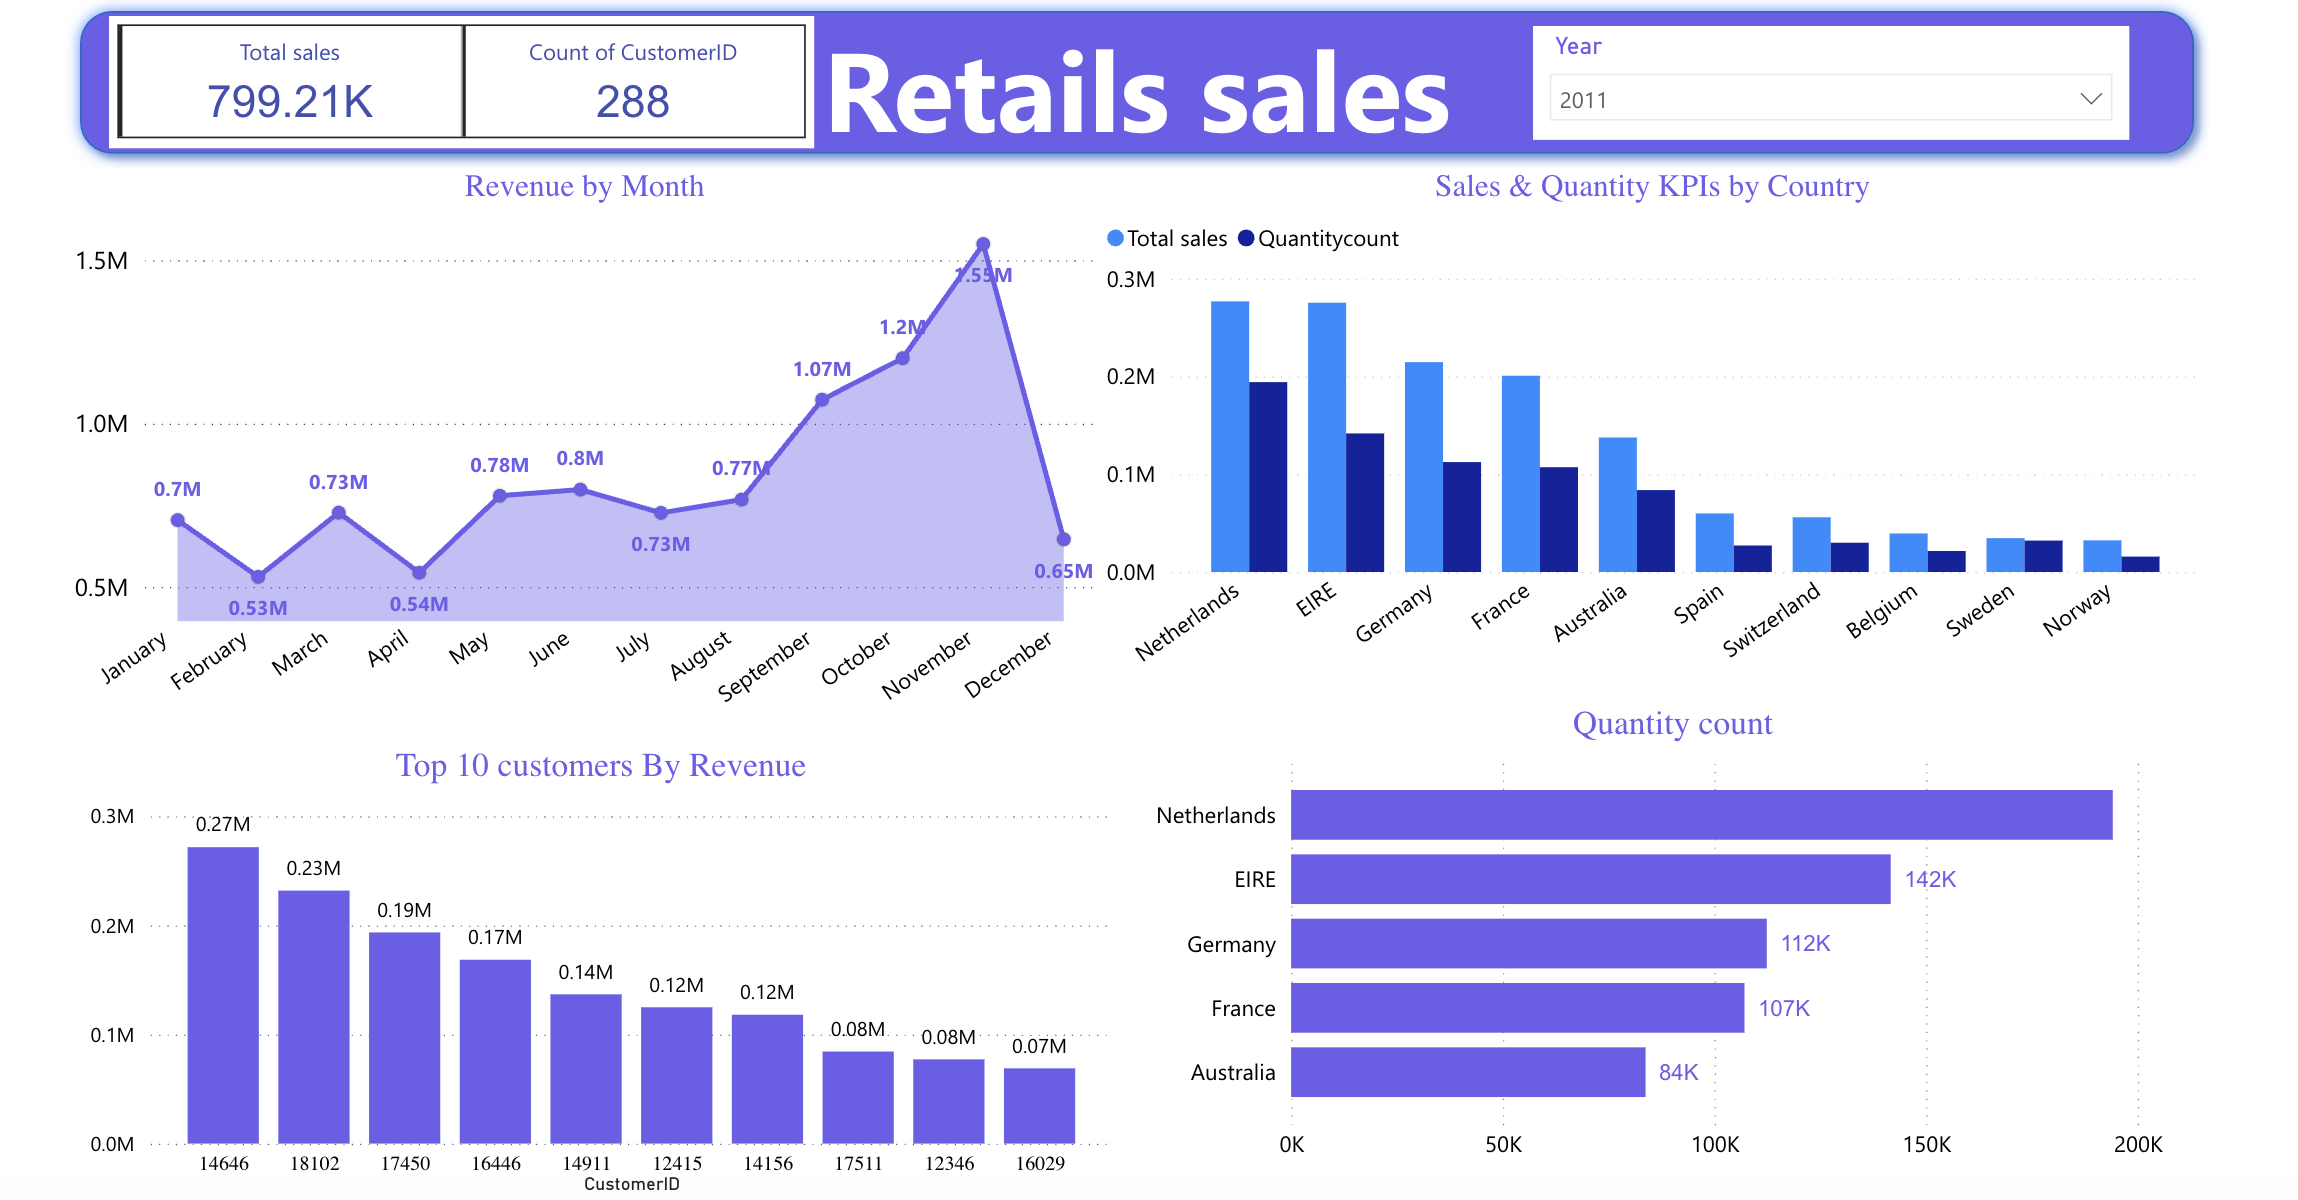

This screenshot's page, from the dashboard's own definition file:
{"tool":"powerbi","page":{"name":"Page 1","canvas":[1280,720],"ordinal":0},"visuals":[{"type":"shape","box":[0,0,1280,103.1],"z":0},{"type":"lineChart","title":"Revenue by Month","fields":{"Category":["Online Retail.InvoiceDate.Variation.Date Hierarchy.Month"],"Y":["Online Retail.Total sales"]},"box":[0,103.1,620.5,334.6],"z":1000},{"type":"lineClusteredColumnComboChart","title":"Sales & Quantity KPIs by Country","fields":{"Category":["Online Retail.Country"],"Y":["Online Retail.Total sales","Online Retail.Quantitycount"]},"box":[616.7,103.1,663.3,319],"z":2000},{"type":"columnChart","title":"Top 10 customers By Revenue","fields":{"Category":["Online Retail.CustomerID"],"Y":["Online Retail.Total sales"]},"box":[9,448,621,272],"z":3000},{"type":"cardVisual","fields":{"Data":["Online Retail.Total sales","Count(Online Retail.CustomerID)"]},"box":[26.3,11.7,421.2,78.8],"z":4000},{"type":"barChart","title":"Quantity count","fields":{"Y":["Sum(Online Retail.Quantity)"],"Category":["Online Retail.Country"]},"box":[640,422.1,640,282.1],"z":5000},{"type":"slicer","fields":{"Values":["Online Retail.InvoiceDate.Variation.Date Hierarchy.Year"]},"box":[876.4,17.5,356,68.1],"z":5001}]}

Visuals, with their boxes on the page's 1280x720 design canvas (x1, y1, x2, y2). These are canvas units, not pixel positions in the 2298x1200 screenshot, which may show the page scaled, cropped or inside an application window:
shape: <bbox>0, 0, 1280, 103</bbox>
"Revenue by Month" lineChart: <bbox>0, 103, 620, 438</bbox>
"Sales & Quantity KPIs by Country" lineClusteredColumnComboChart: <bbox>617, 103, 1280, 422</bbox>
"Top 10 customers By Revenue" columnChart: <bbox>9, 448, 630, 720</bbox>
cardVisual - Online Retail.Total sales x Count(Online Retail.CustomerID): <bbox>26, 12, 448, 90</bbox>
"Quantity count" barChart: <bbox>640, 422, 1280, 704</bbox>
slicer - Online Retail.InvoiceDate.Variation.Date Hierarchy.Year: <bbox>876, 18, 1232, 86</bbox>
